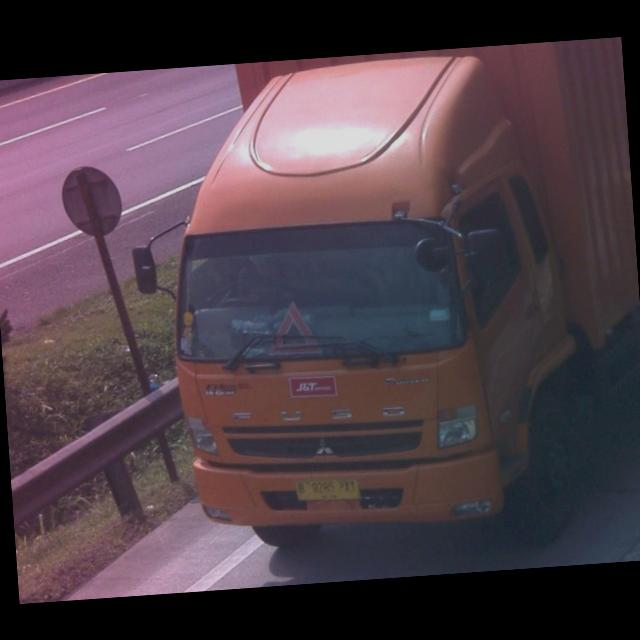plate: (292, 474, 364, 506)
